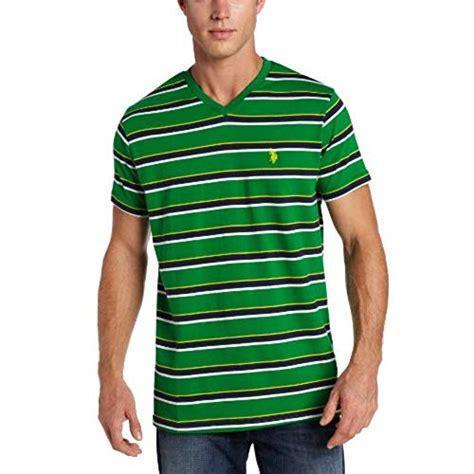Tshirt: (112, 55, 369, 434)
